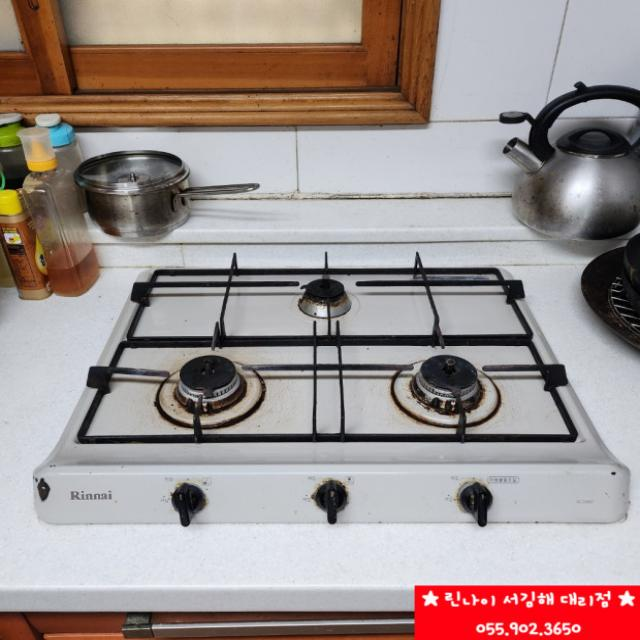knob_ON: (138, 256, 553, 488)
